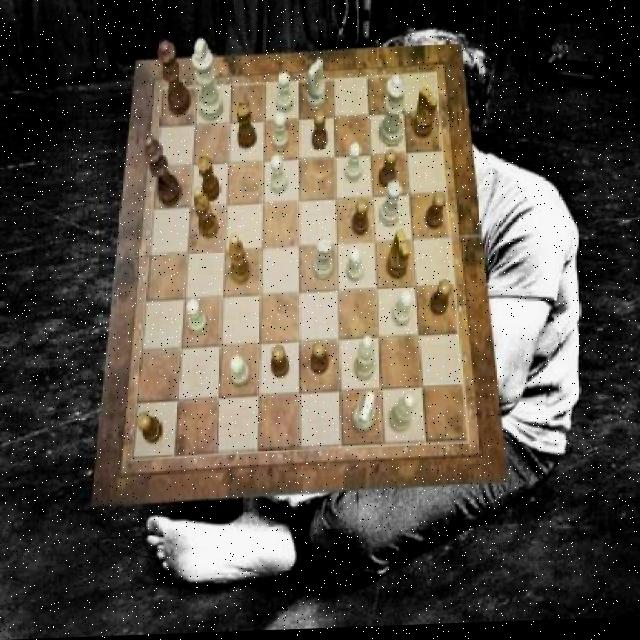bishop: (192, 187, 218, 241), (228, 236, 251, 287)
black-bishop: (142, 132, 182, 209)
black-king: (412, 90, 437, 142), (386, 233, 410, 282)
black-knight: (137, 414, 161, 447), (430, 284, 451, 319), (424, 197, 444, 233), (350, 200, 368, 238), (379, 153, 397, 191), (310, 344, 329, 379), (312, 114, 328, 153), (272, 347, 289, 382)
black-pawn: (157, 40, 190, 117)
black-queen: (197, 157, 220, 203), (236, 103, 257, 151)
black-rook: (388, 397, 414, 435), (354, 340, 376, 384)
white-bishop: (192, 40, 223, 123)
white-king: (352, 395, 376, 436), (307, 61, 325, 113)
white-knight: (392, 292, 412, 329), (186, 300, 207, 335), (344, 146, 362, 185), (269, 158, 286, 197), (229, 357, 249, 389), (276, 75, 292, 115), (272, 115, 288, 154), (346, 250, 363, 285)
white-pawn: (380, 79, 406, 150)
white-queen: (378, 184, 402, 230), (312, 238, 332, 282)
